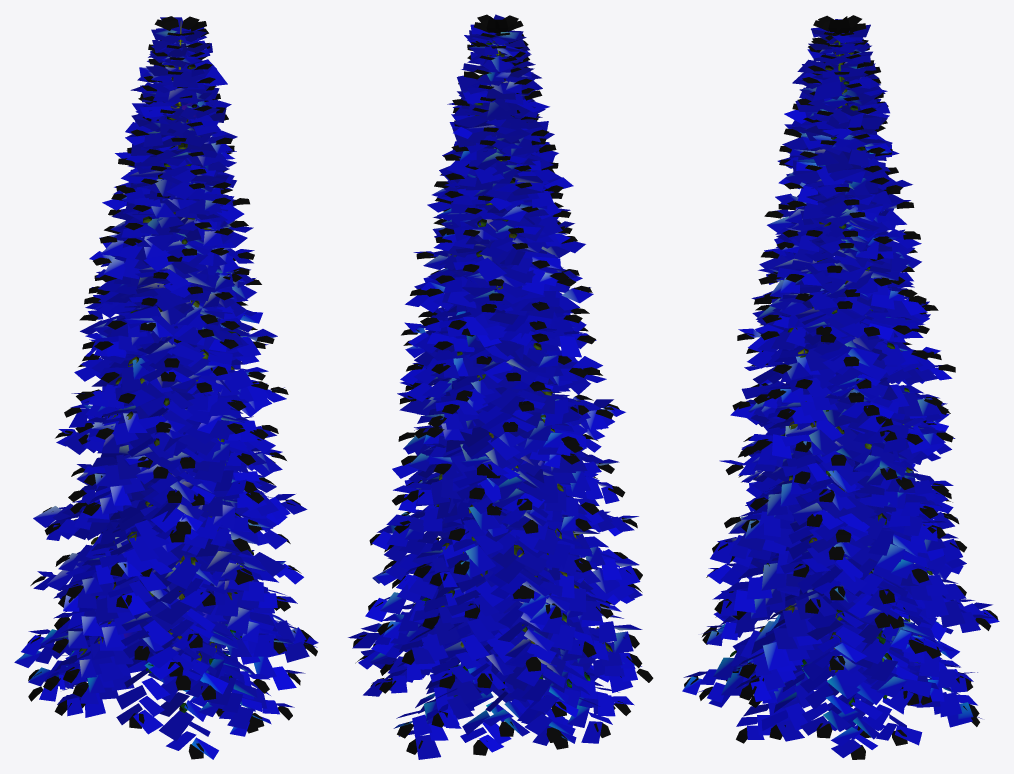
The model's file is tree_spruce_5.glb.
The picture shows the model from 3 angles, left to right: view 1: azimuth 30°, elevation 25°; view 2: azimuth 150°, elevation 25°; view 3: azimuth 270°, elevation 25°; orthographic projection. The views are drawn at different scales.
Visible parts, largest first — view 1: lod1_spruce_5; view 2: lod1_spruce_5; view 3: lod1_spruce_5.
Part boxes in pixels (x1,y1,x2,y2): lod1_spruce_5: (14, 16, 318, 759); lod1_spruce_5: (348, 14, 653, 759); lod1_spruce_5: (682, 15, 999, 759).
Bounding box in the file's own units: 10.11 × 23.84 × 9.79.
